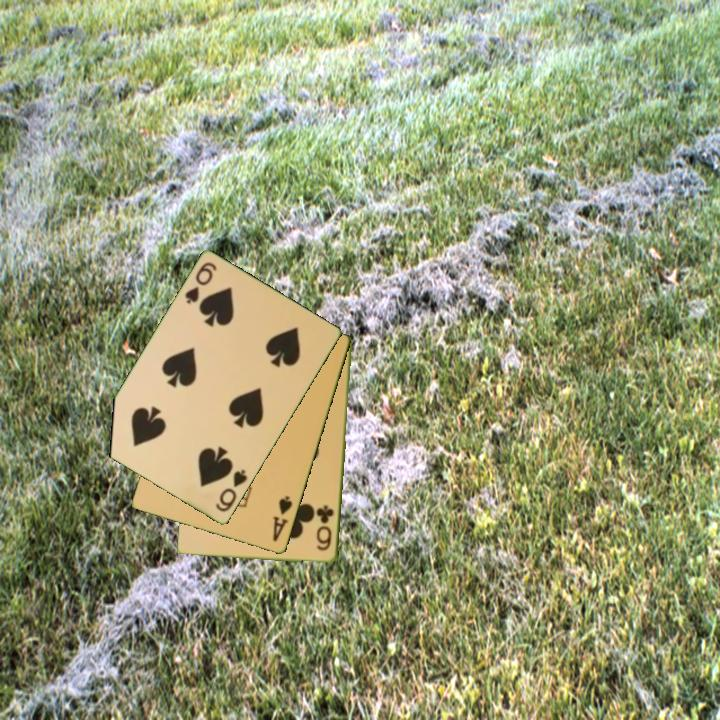6c: (313, 502, 337, 554)
6s: (212, 466, 251, 515), (181, 259, 220, 307)
As: (270, 492, 296, 545)
